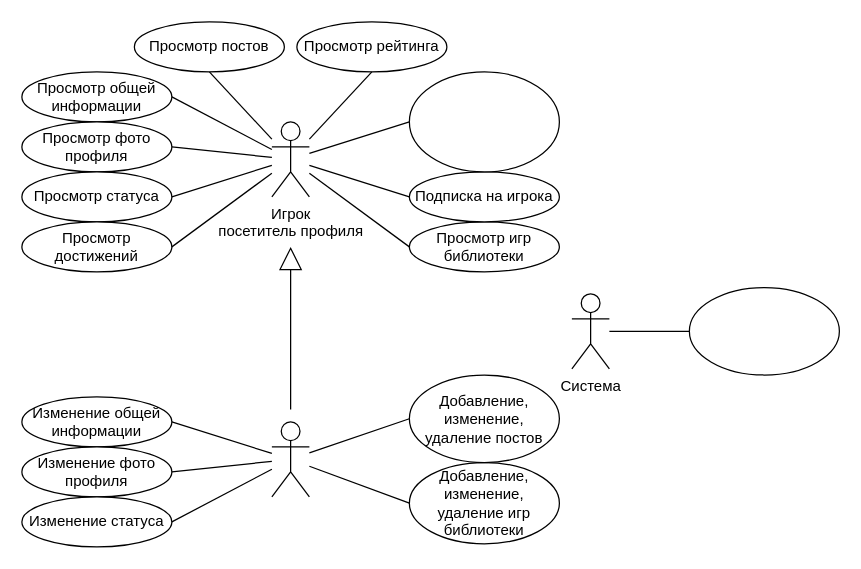
Some shapes in this 861 by 569 pixel diagram are drawn without their labels. Each missing label, with the centre of its shape:
"Выдать достижение игроку" goes at (763,330).
"Игрок владелец профиля" goes at (290,459).
"Просмотр истории участия в мероприятиях" goes at (483,121).
